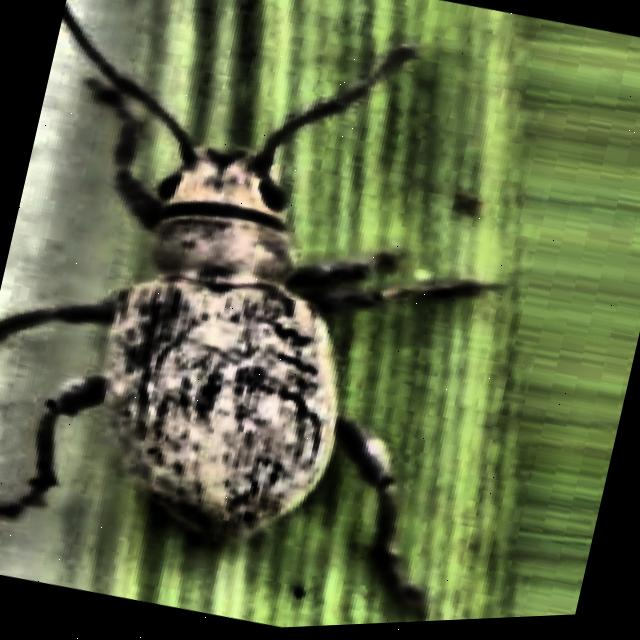Stink bug: (0, 12, 552, 640)
